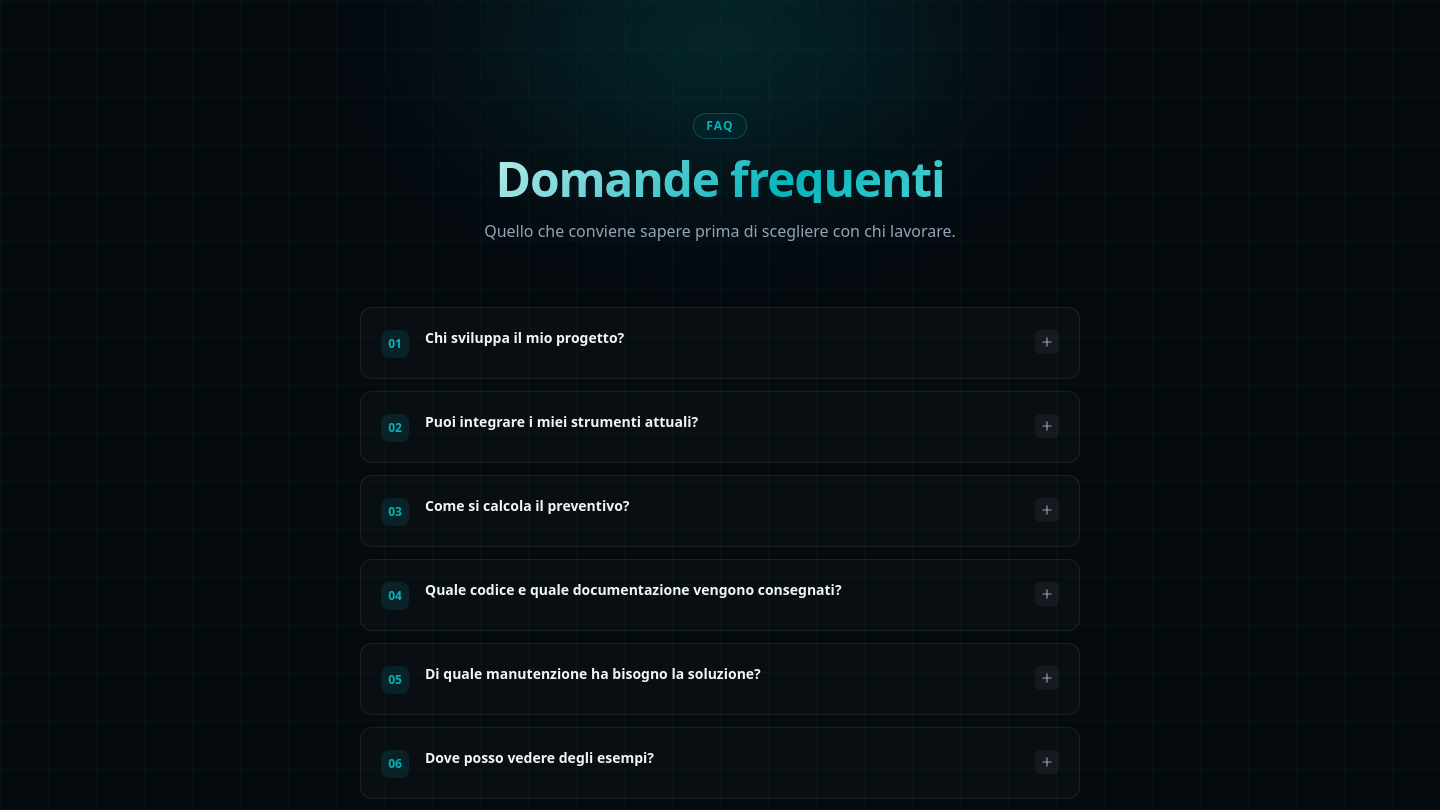
Test: FaqSection (it) › opens one answer at a time on click
Click the button "01 Chi sviluppa il mio progetto?" at (525, 338), box [361,308,1079,378]
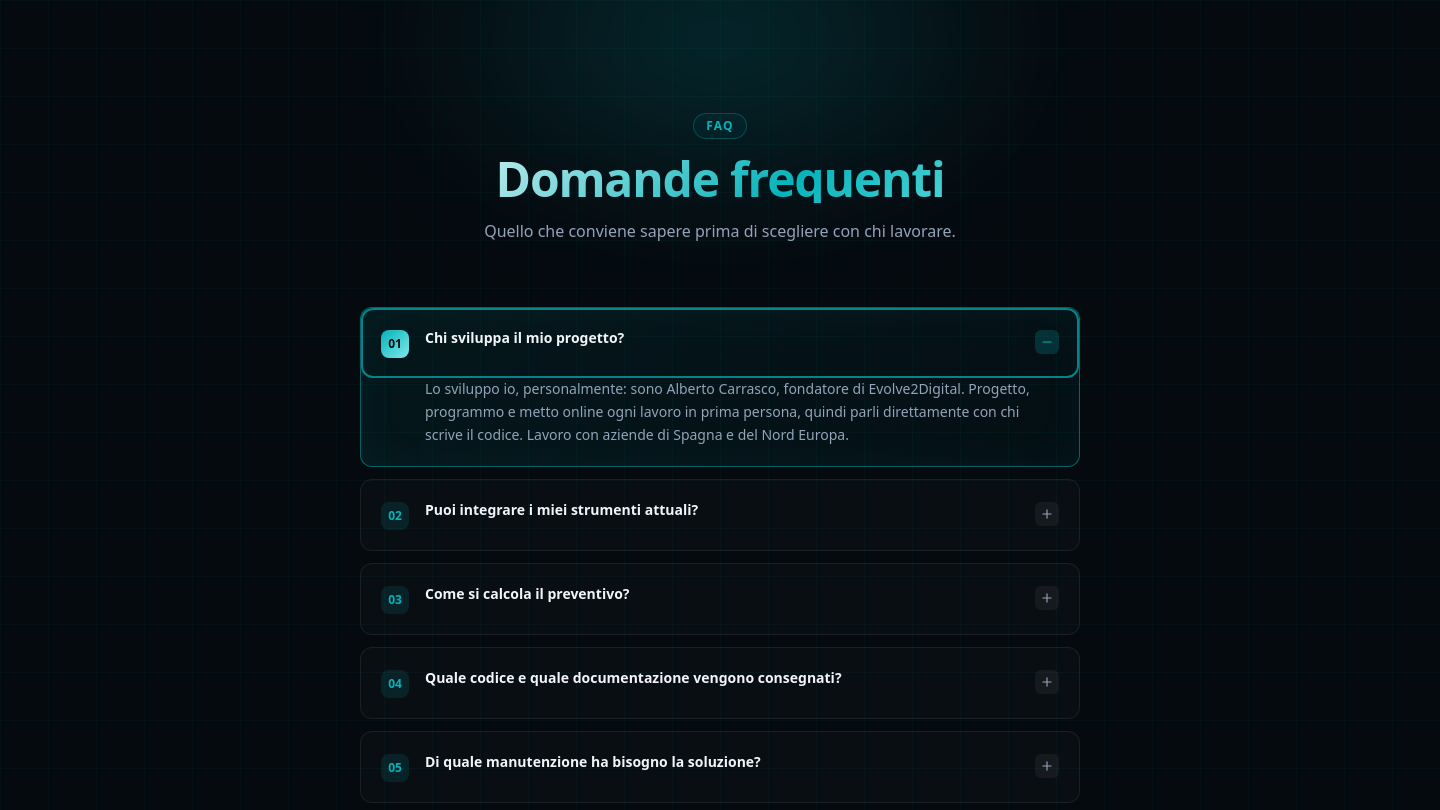
expect the button "01 Chi sviluppa il mio progetto?" is expanded: met, box [361,308,1079,378]
expect the element named "Chi sviluppa il mio progetto?" shows "Lo sviluppo io, personalmente: sono Alberto Carrasco, fondatore di Evolve2Digital. Progetto, programmo e metto online ogni lavoro in prima persona, quindi parli": met, box [425,379,1030,444]
Click the button "02 Puoi integrare i miei strumenti attuali?" at (562, 510), box [361,480,1079,550]
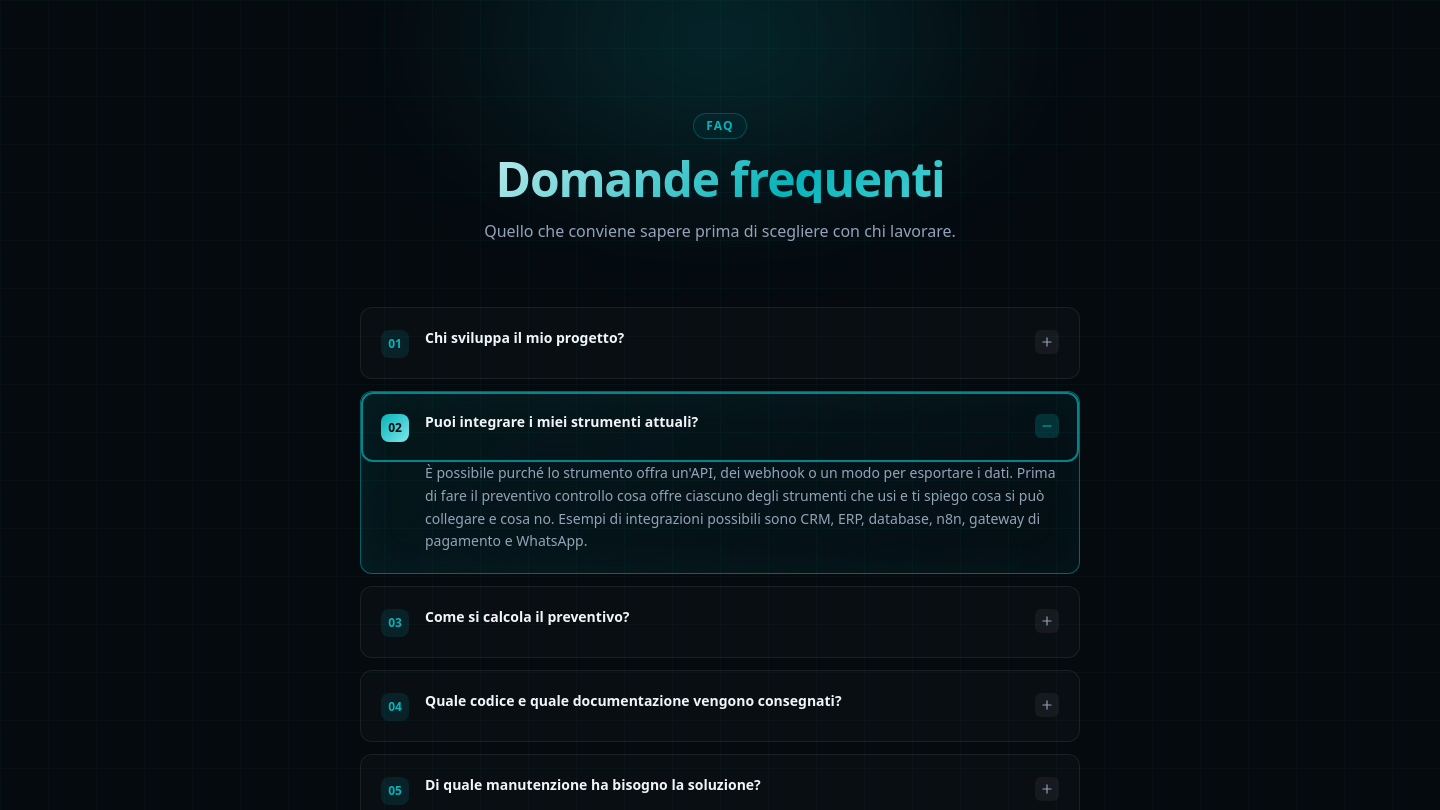
expect the button "01 Chi sviluppa il mio progetto?" is collapsed: met, box [361,308,1079,378]
expect the button "02 Puoi integrare i miei strumenti attuali?" is expanded: met
Click the button "02 Puoi integrare i miei strumenti attuali?" at (562, 422), box [361,392,1079,462]
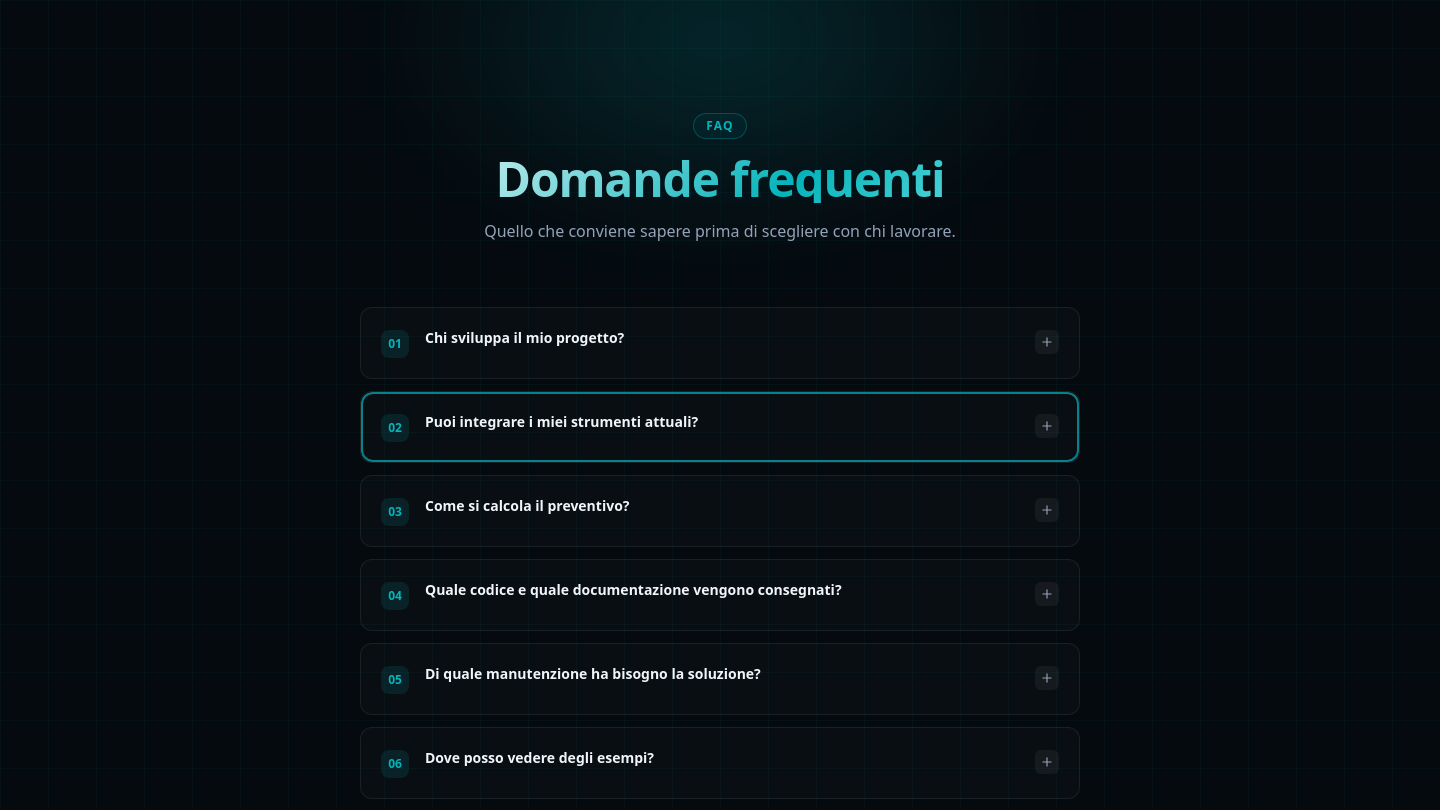
expect the button "02 Puoi integrare i miei strumenti attuali?" is collapsed: met, box [361,392,1079,462]
